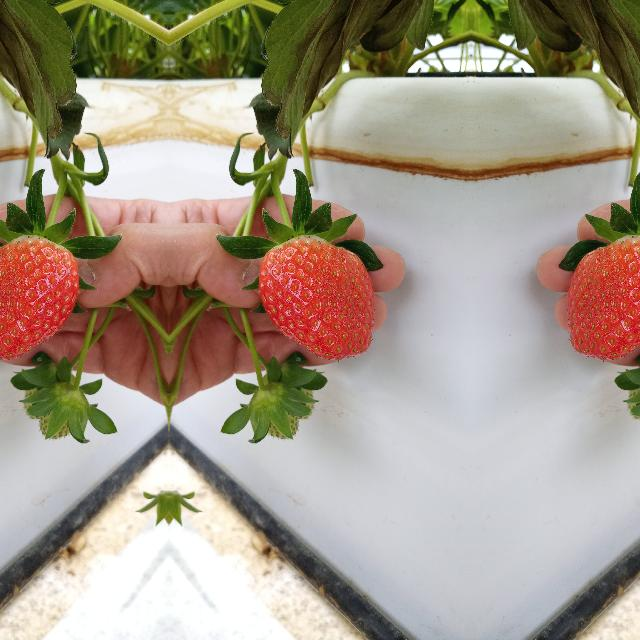Health_100: (256, 234, 376, 362), (0, 234, 80, 362), (565, 234, 640, 362)
